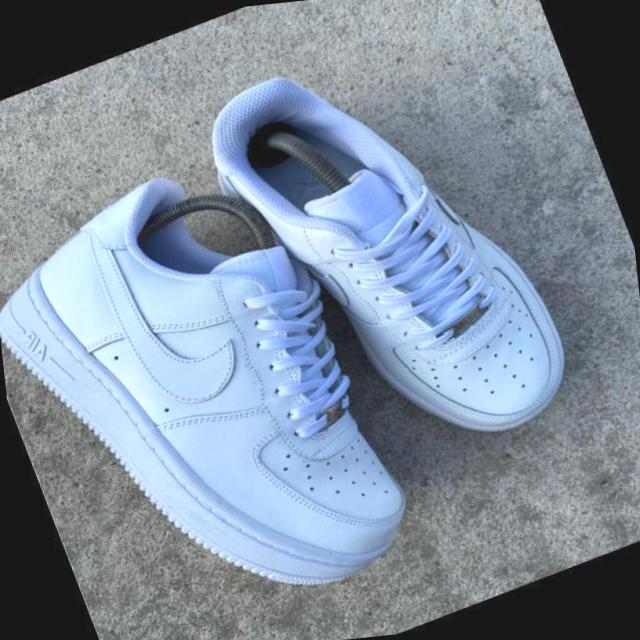nike_original_airforce: (0, 115, 454, 640), (183, 0, 597, 503)
